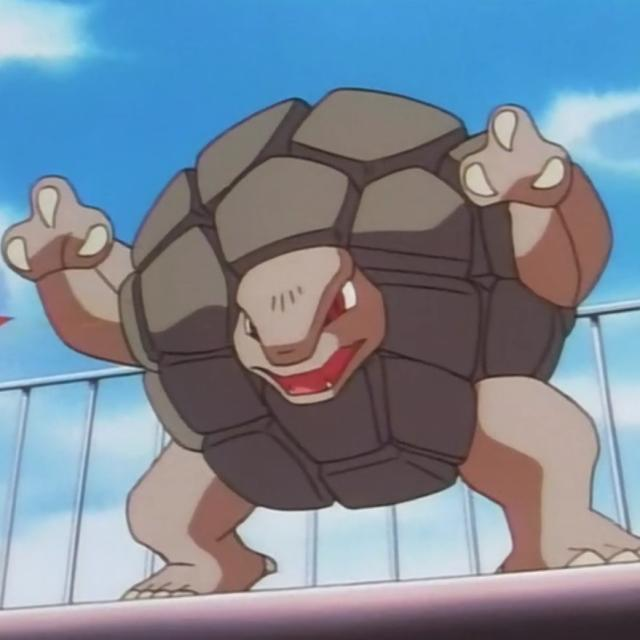Golem: (0, 84, 640, 585)
